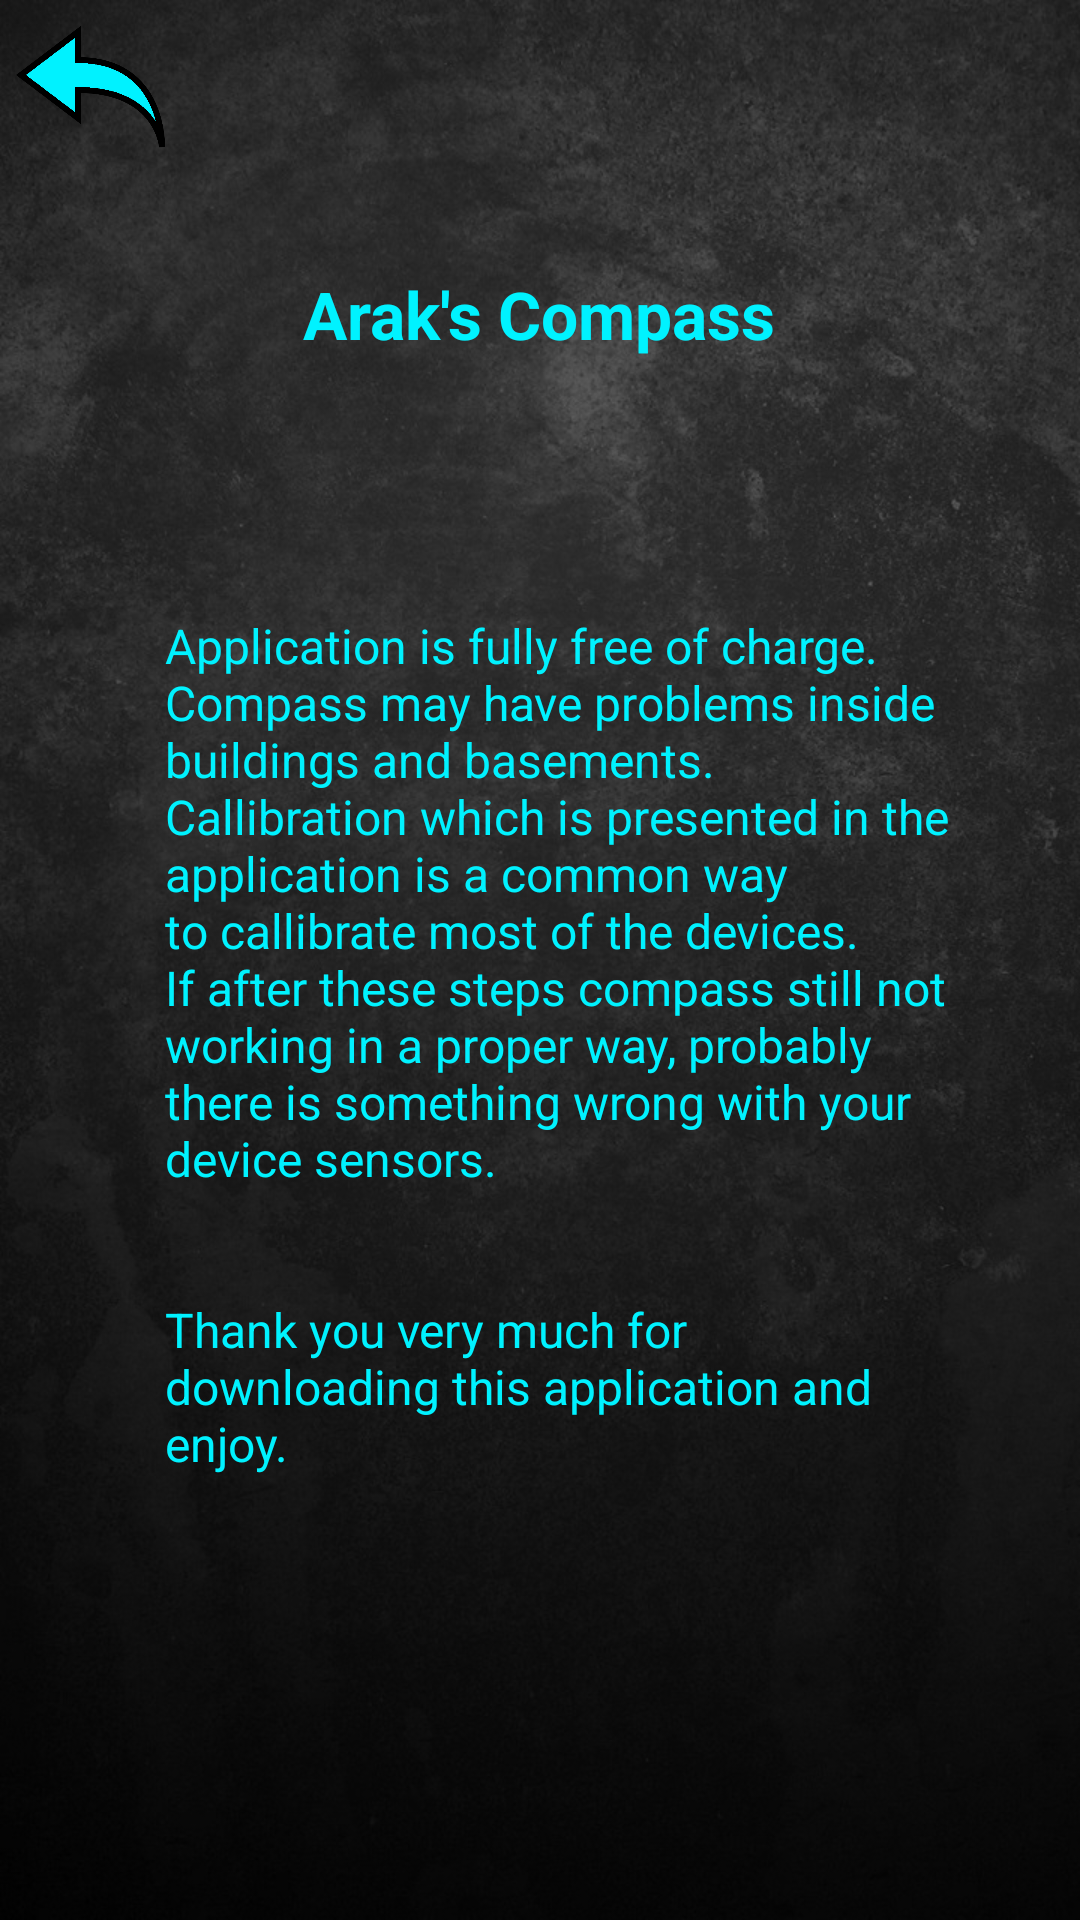

Point at icon controls on the screen. Image size 1080x1920, points as [x,y].
arrow: [91,86]
